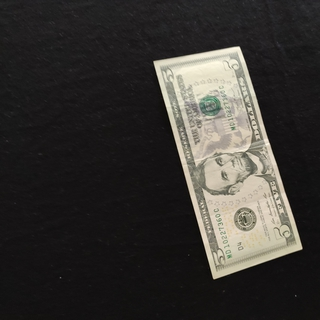5USDFront: (152, 45, 303, 279)
